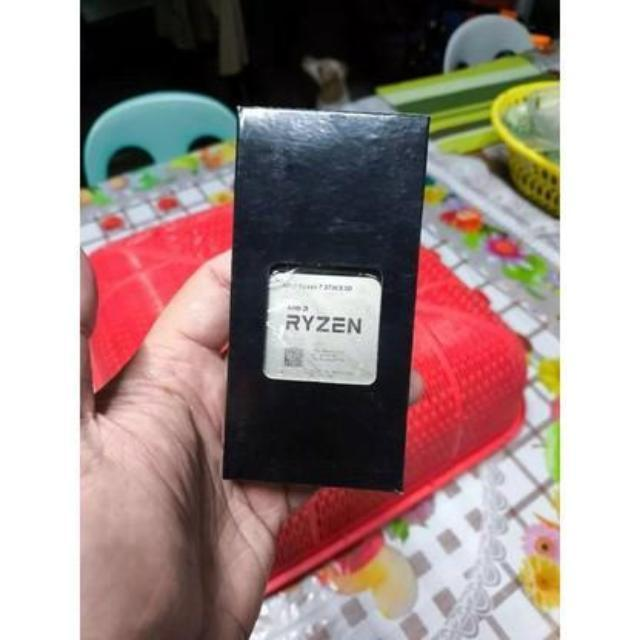CPU: (267, 274, 379, 383)
